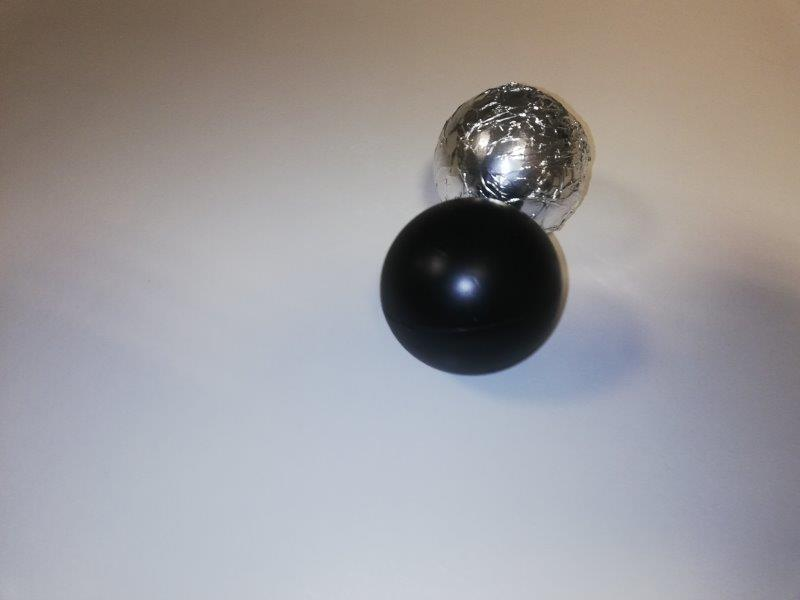bianca: (440, 85, 587, 233)
nera: (377, 200, 570, 377)
